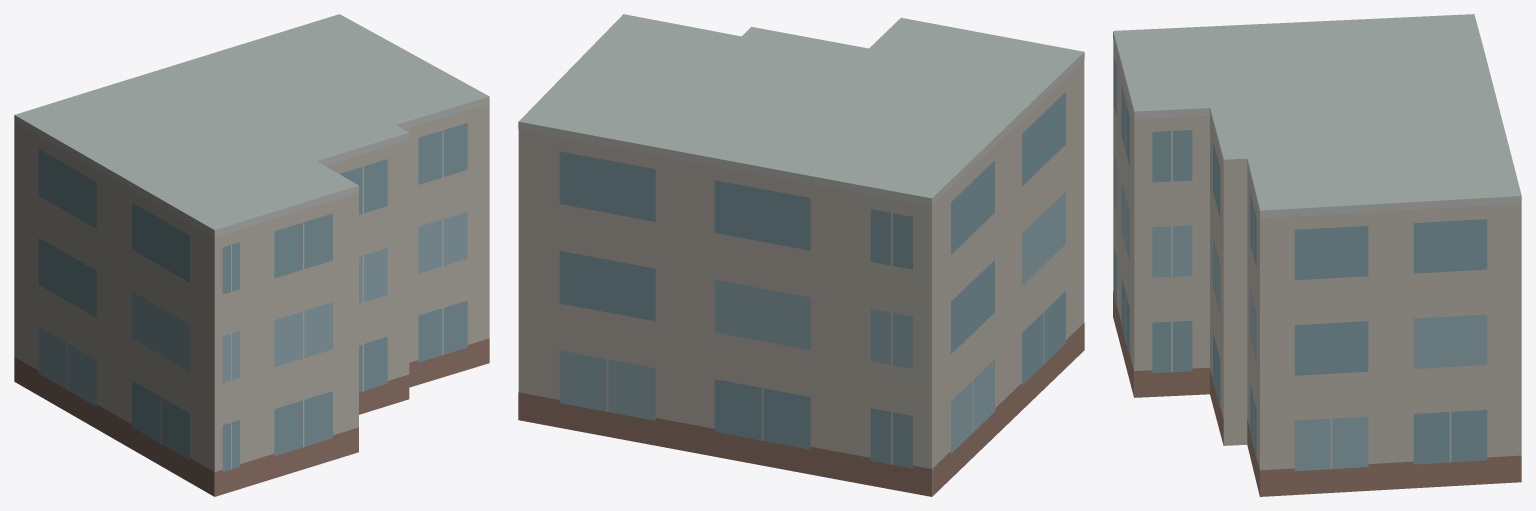
File: survey-upis-32801963.glb
3 renders of one model, left to right at view 1: azimuth 30°, elevation 25°; view 2: azimuth 150°, elevation 25°; view 3: azimuth 270°, elevation 25°, orthographic. The views are drawn at different scales.
Parts seen in each view (by area): view 1: survey-upis-32801963.tmp; view 2: survey-upis-32801963.tmp; view 3: survey-upis-32801963.tmp.
Part boxes in pixels (<box>): survey-upis-32801963.tmp: <box>14,14,489,496</box>; survey-upis-32801963.tmp: <box>518,14,1084,496</box>; survey-upis-32801963.tmp: <box>1113,14,1521,496</box>.
Bounding box in the file's own units: 13.42 × 9.1 × 11.79.
